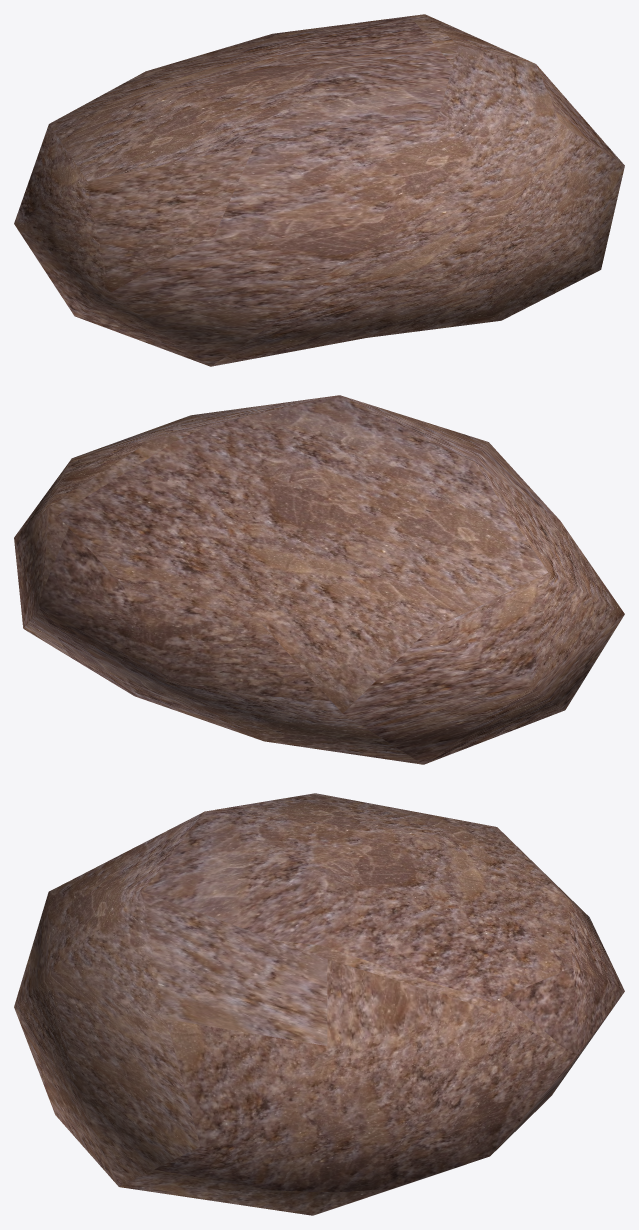
The model's file is RockSet.obj.
3 views of the same model, one above another, from view 1: azimuth 30°, elevation 25°; view 2: azimuth 150°, elevation 25°; view 3: azimuth 270°, elevation 25° (orthographic). The views are drawn at different scales.
Parts seen in each view (by area): view 1: Icosphere.001; view 2: Icosphere.001; view 3: Icosphere.001.
Boxes of the visible parts, x1,y1,x2,y2 form: Icosphere.001: (14,14,624,366); Icosphere.001: (14,395,624,764); Icosphere.001: (14,793,624,1215).
Size of the model in its own units: 2.83 by 1.14 by 2.51.
Materials: 1 (1 with a texture image).
